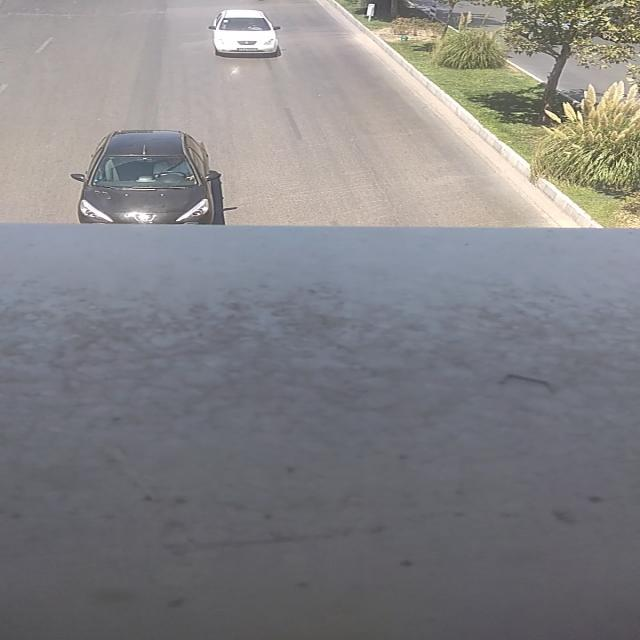car: (71, 128, 217, 225), (206, 10, 281, 54)
